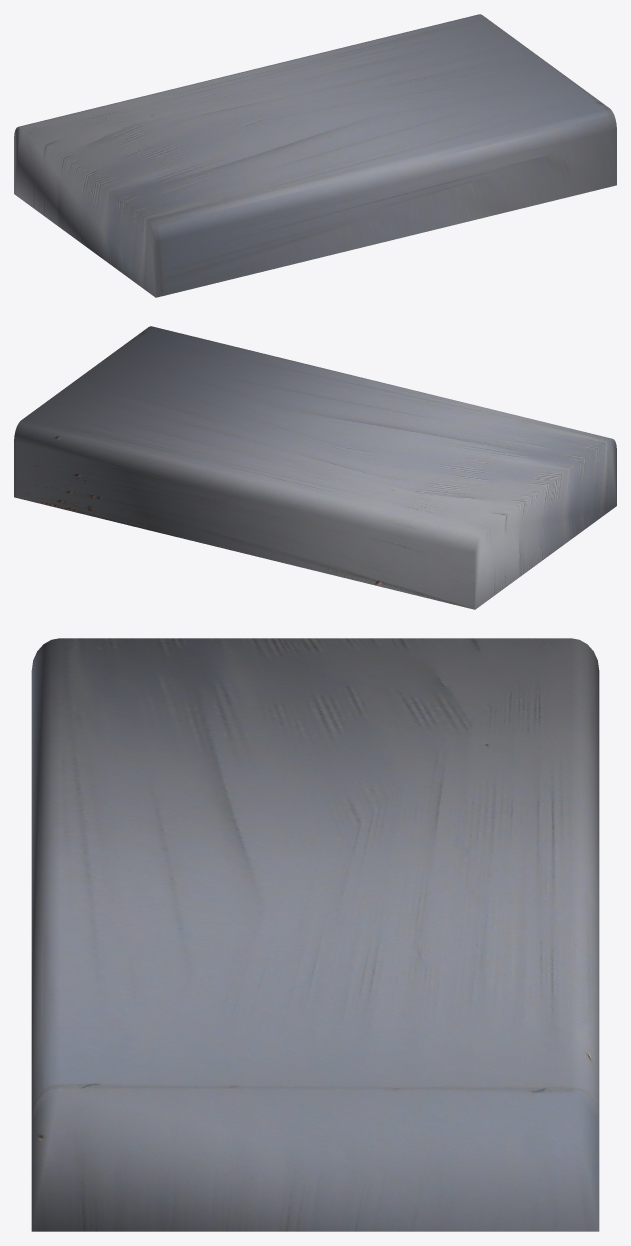
File: bed.dae
3 renders of one model, top to bottom at view 1: azimuth 30°, elevation 25°; view 2: azimuth 150°, elevation 25°; view 3: azimuth 270°, elevation 25°, orthographic. The views are drawn at different scales.
Parts seen in each view (by area): view 1: Cube; view 2: Cube; view 3: Cube.
Part boxes in pixels (bbox=[...]): Cube: bbox=[14, 14, 616, 297]; Cube: bbox=[14, 326, 616, 609]; Cube: bbox=[31, 638, 599, 1231].
Size of the model in its own units: 3.01 by 1.6 by 0.4477.
1 material, 1 textured.
